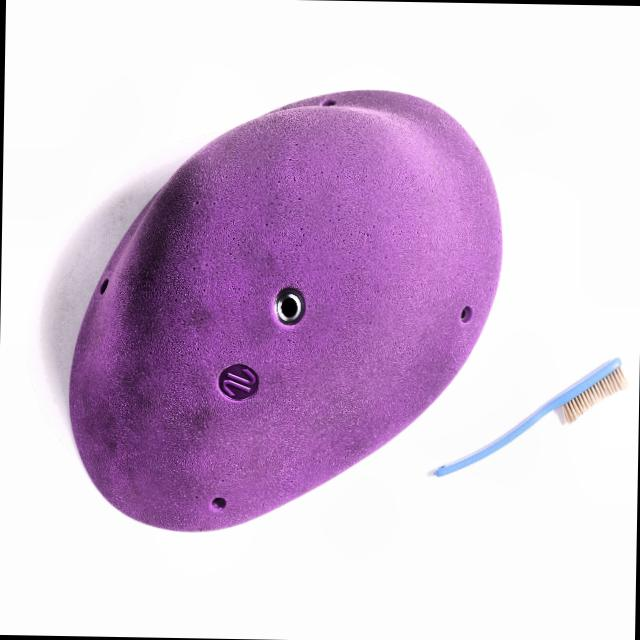Hold: (45, 72, 524, 562)
